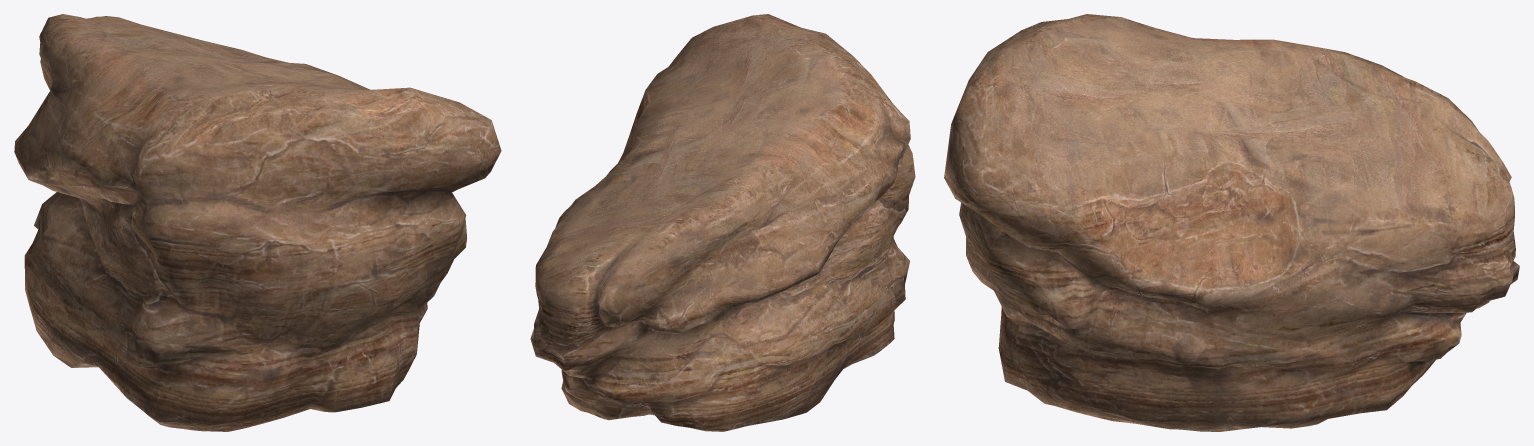
File: rock_sandstone_large_02.dae
3 renders of one model, left to right at view 1: azimuth 30°, elevation 25°; view 2: azimuth 150°, elevation 25°; view 3: azimuth 270°, elevation 25°, orthographic. The views are drawn at different scales.
Parts seen in each view (by area): view 1: rock_sandstone_large02; view 2: rock_sandstone_large02; view 3: rock_sandstone_large02.
Boxes of the visible parts, x1,y1,x2,y2 form: rock_sandstone_large02: (14, 14, 501, 431); rock_sandstone_large02: (530, 14, 915, 431); rock_sandstone_large02: (944, 14, 1519, 431).
Bounding box in the file's own units: 636 × 611 × 962.
